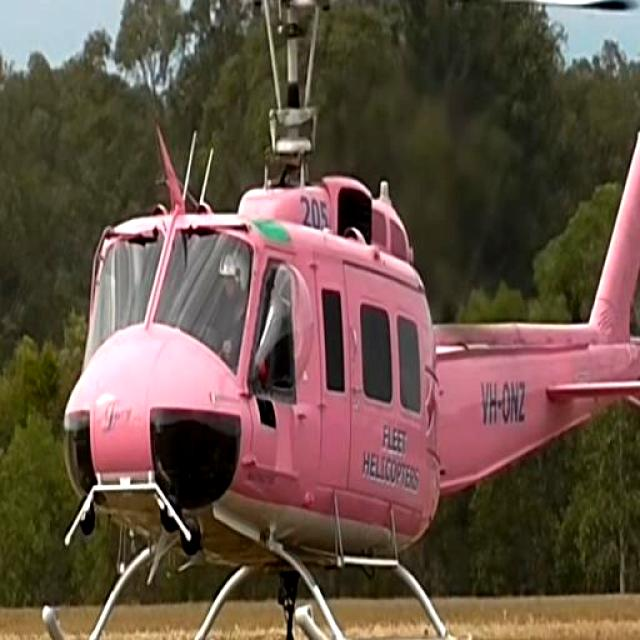drone: (1, 0, 640, 640)
